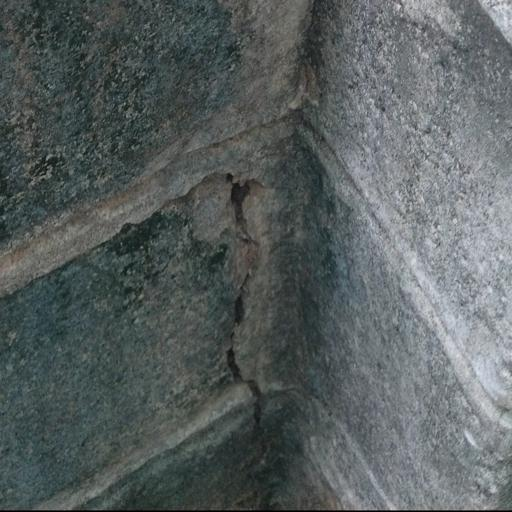major_crack: (194, 149, 300, 482)
